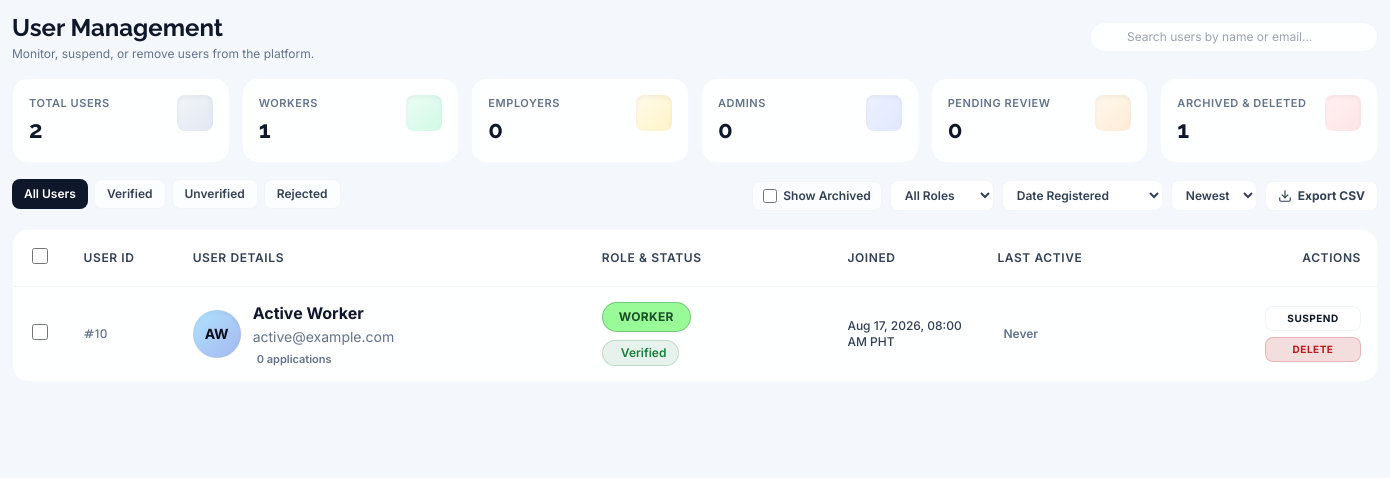
Test: UsersPage Component › clicking show archived includes archived users on the list alongside active users
Check: the text "Active Worker" is shown, box [253,300,364,324]
Check: the text "Archived Worker" is not shown
// Check "Show Archived"
Click the checkbox named "show archived users". click: coordinates (770, 196)
box: [763,188,777,202]
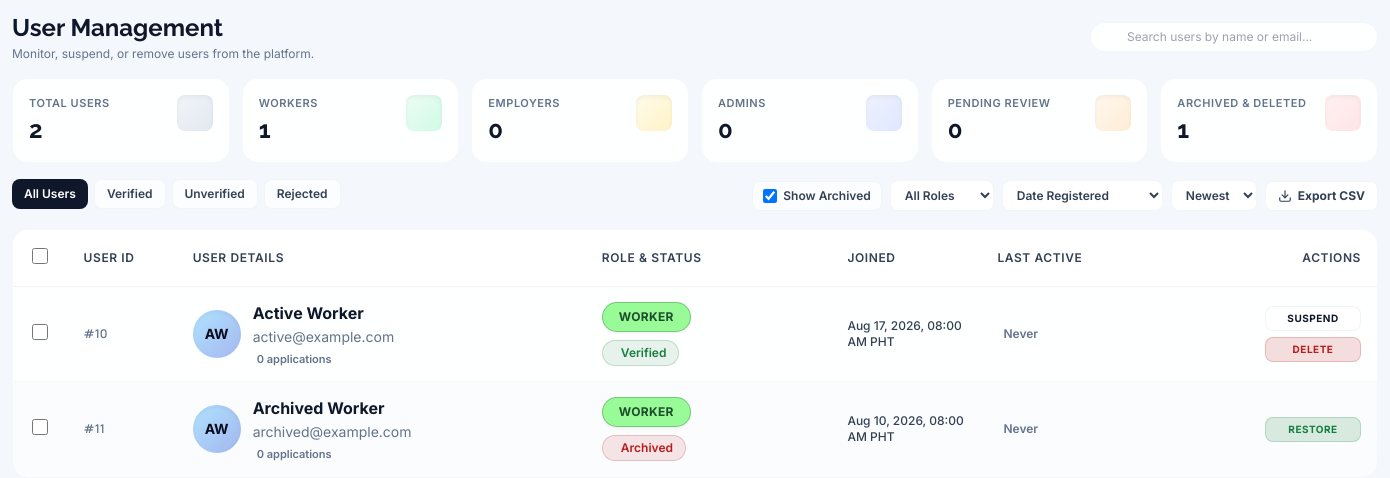
Check: the text "Active Worker" is shown, box [253,300,364,324]
Check: the text "Archived Worker" is shown, box [253,396,385,420]
// Uncheck "Show Archived"
Click the checkbox named "show archived users". click: coordinates (770, 196)
box: [763,188,777,202]
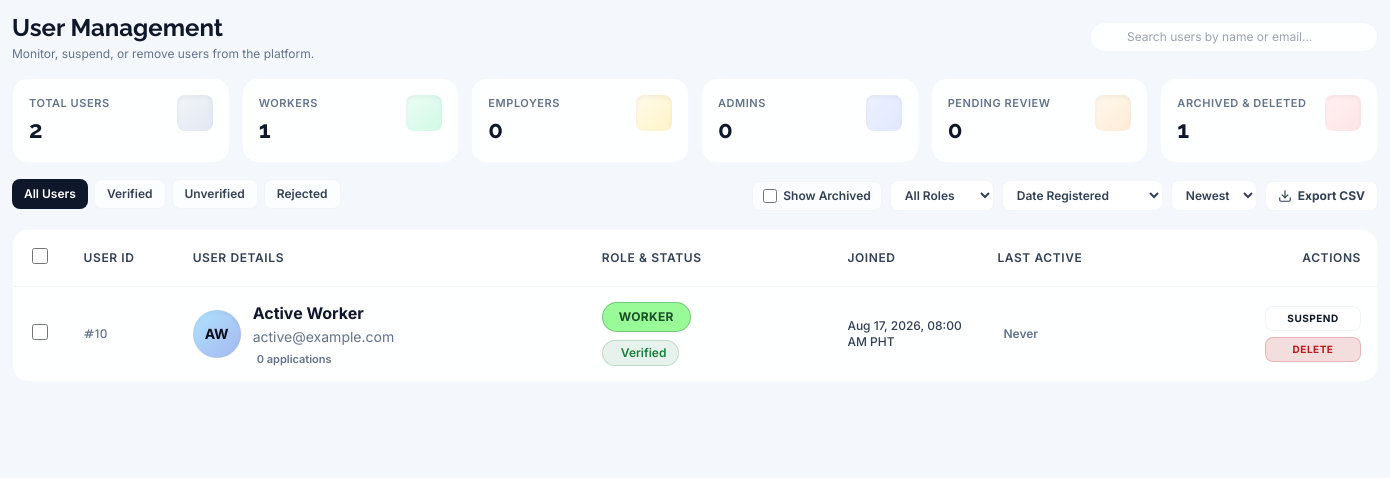
Check: the text "Active Worker" is shown, box [253,300,364,324]
Check: the text "Archived Worker" is gone
